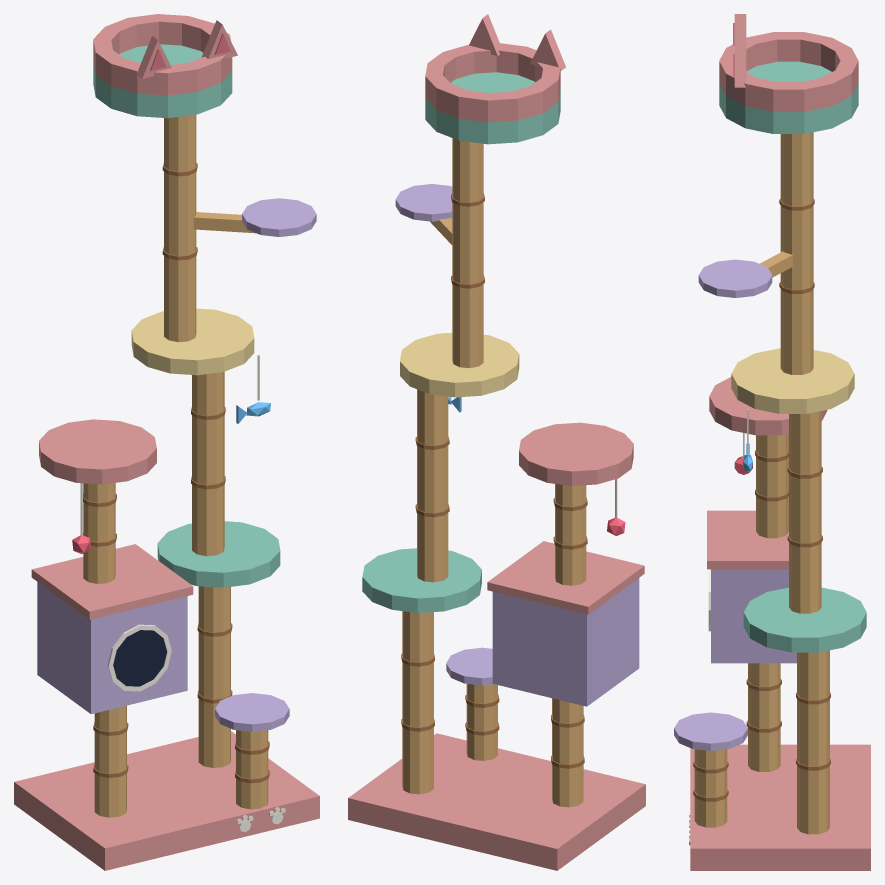
The model's file is CatCafe_Decor_CatTreeTower.glb.
The picture shows the model from 3 angles, left to right: view 1: azimuth 30°, elevation 25°; view 2: azimuth 150°, elevation 25°; view 3: azimuth 270°, elevation 25°; orthographic projection. The views are drawn at different scales.
Parts seen in each view (by area): view 1: CatCafe_Decor_CatTreeTower; view 2: CatCafe_Decor_CatTreeTower; view 3: CatCafe_Decor_CatTreeTower.
Boxes of the visible parts, x1,y1,x2,y2 form: CatCafe_Decor_CatTreeTower: [14, 14, 319, 870]; CatCafe_Decor_CatTreeTower: [348, 14, 645, 870]; CatCafe_Decor_CatTreeTower: [674, 14, 870, 870].
Size of the model in its own units: 3.45 by 10.62 by 2.4.
Materials: 1 (1 with a texture image).
